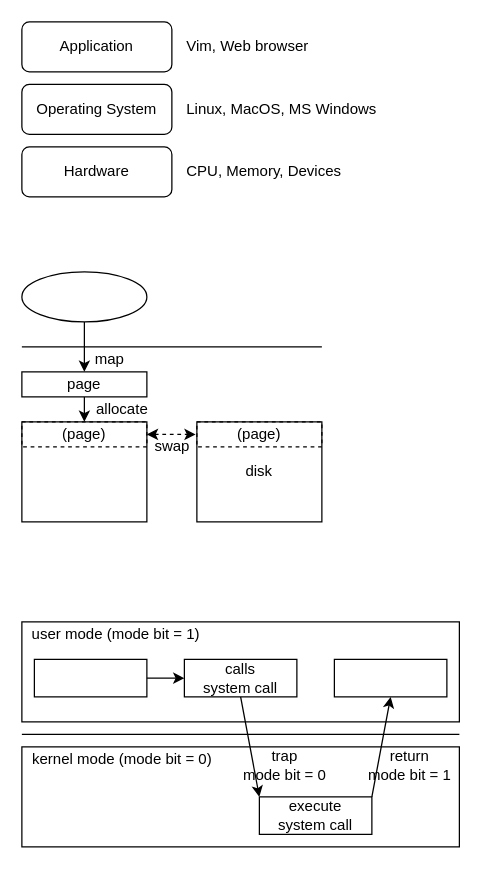
Some shapes in this 483 by 869 pixel diagram are drawn without their labels. The shapes that lost their labels are listed below. From the top down, each one's box as (x1, y1, x2, y2) in pixels, then its label:
(21, 271, 147, 322): process
(21, 421, 147, 522): DRAM
(33, 658, 147, 697): user process executing
(333, 658, 447, 697): return from system call
